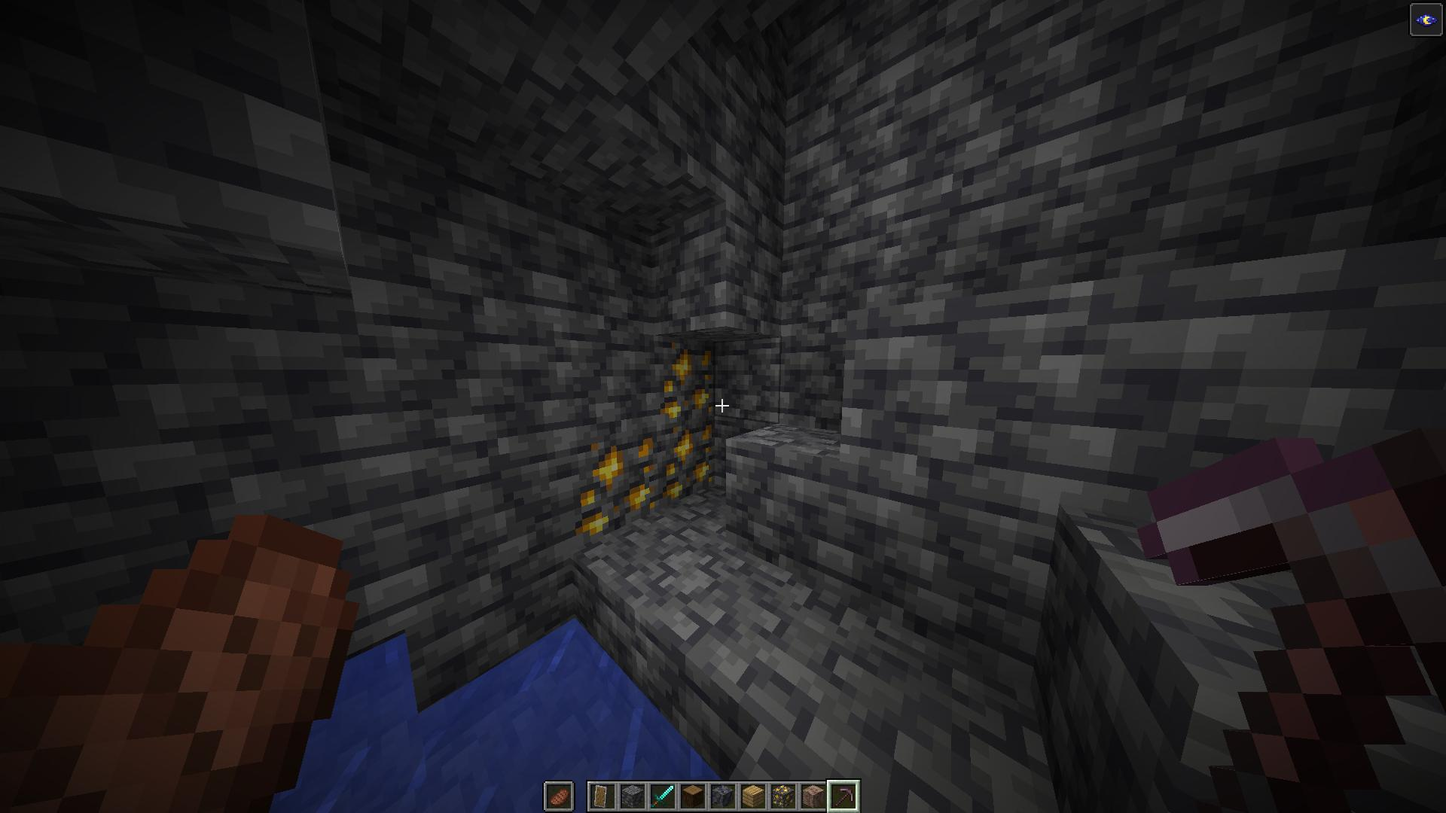gold ore: (577, 433, 659, 533), (660, 337, 718, 424), (661, 419, 717, 508)
